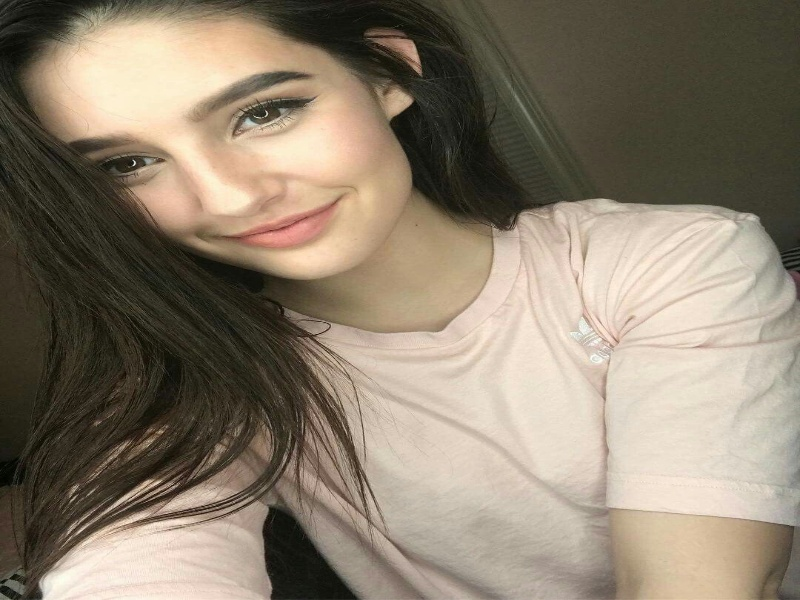smile: (25, 12, 414, 273)
